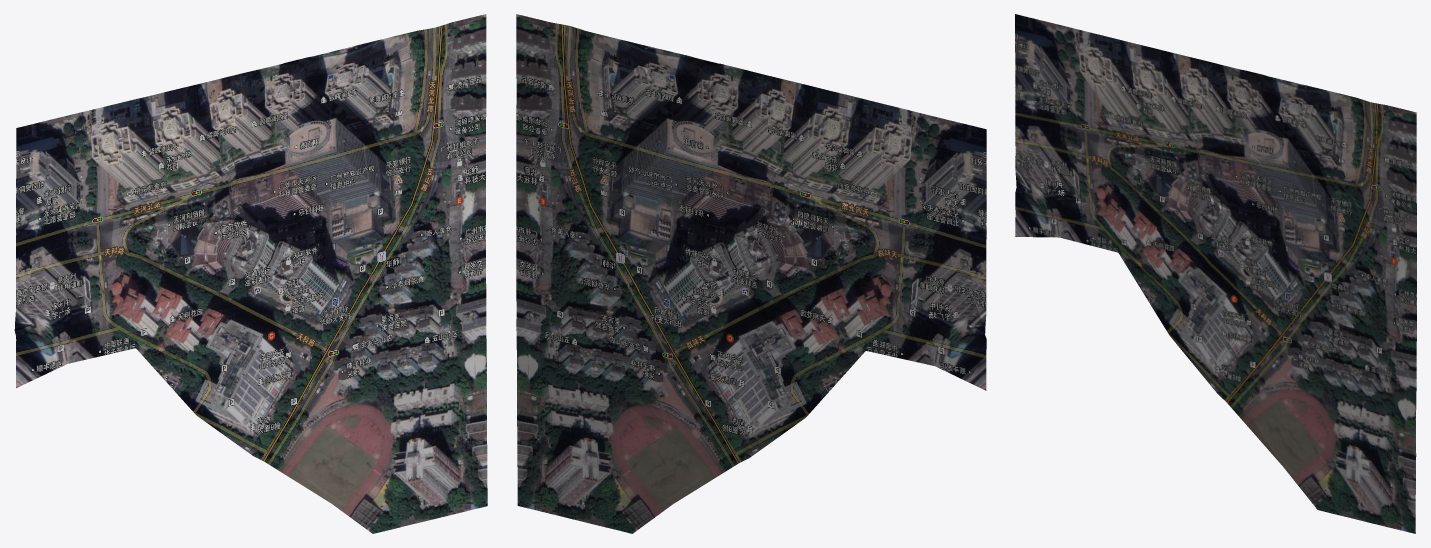
3 renders of one model, left to right at view 1: azimuth 30°, elevation 25°; view 2: azimuth 150°, elevation 25°; view 3: azimuth 330°, elevation 25°, orthographic. The views are drawn at different scales.
Parts seen in each view (by area): view 1: 0_1_2_0_2_0; view 2: 0_1_2_0_2_0; view 3: 0_1_2_0_2_0.
Part boxes in pixels (x1,y1,x2,y2): 0_1_2_0_2_0: (14,14,487,533); 0_1_2_0_2_0: (516,14,986,533); 0_1_2_0_2_0: (1015,14,1416,533).
Size of the model in its own units: 486 by 486 by 8.69.
1 material, 1 textured.
